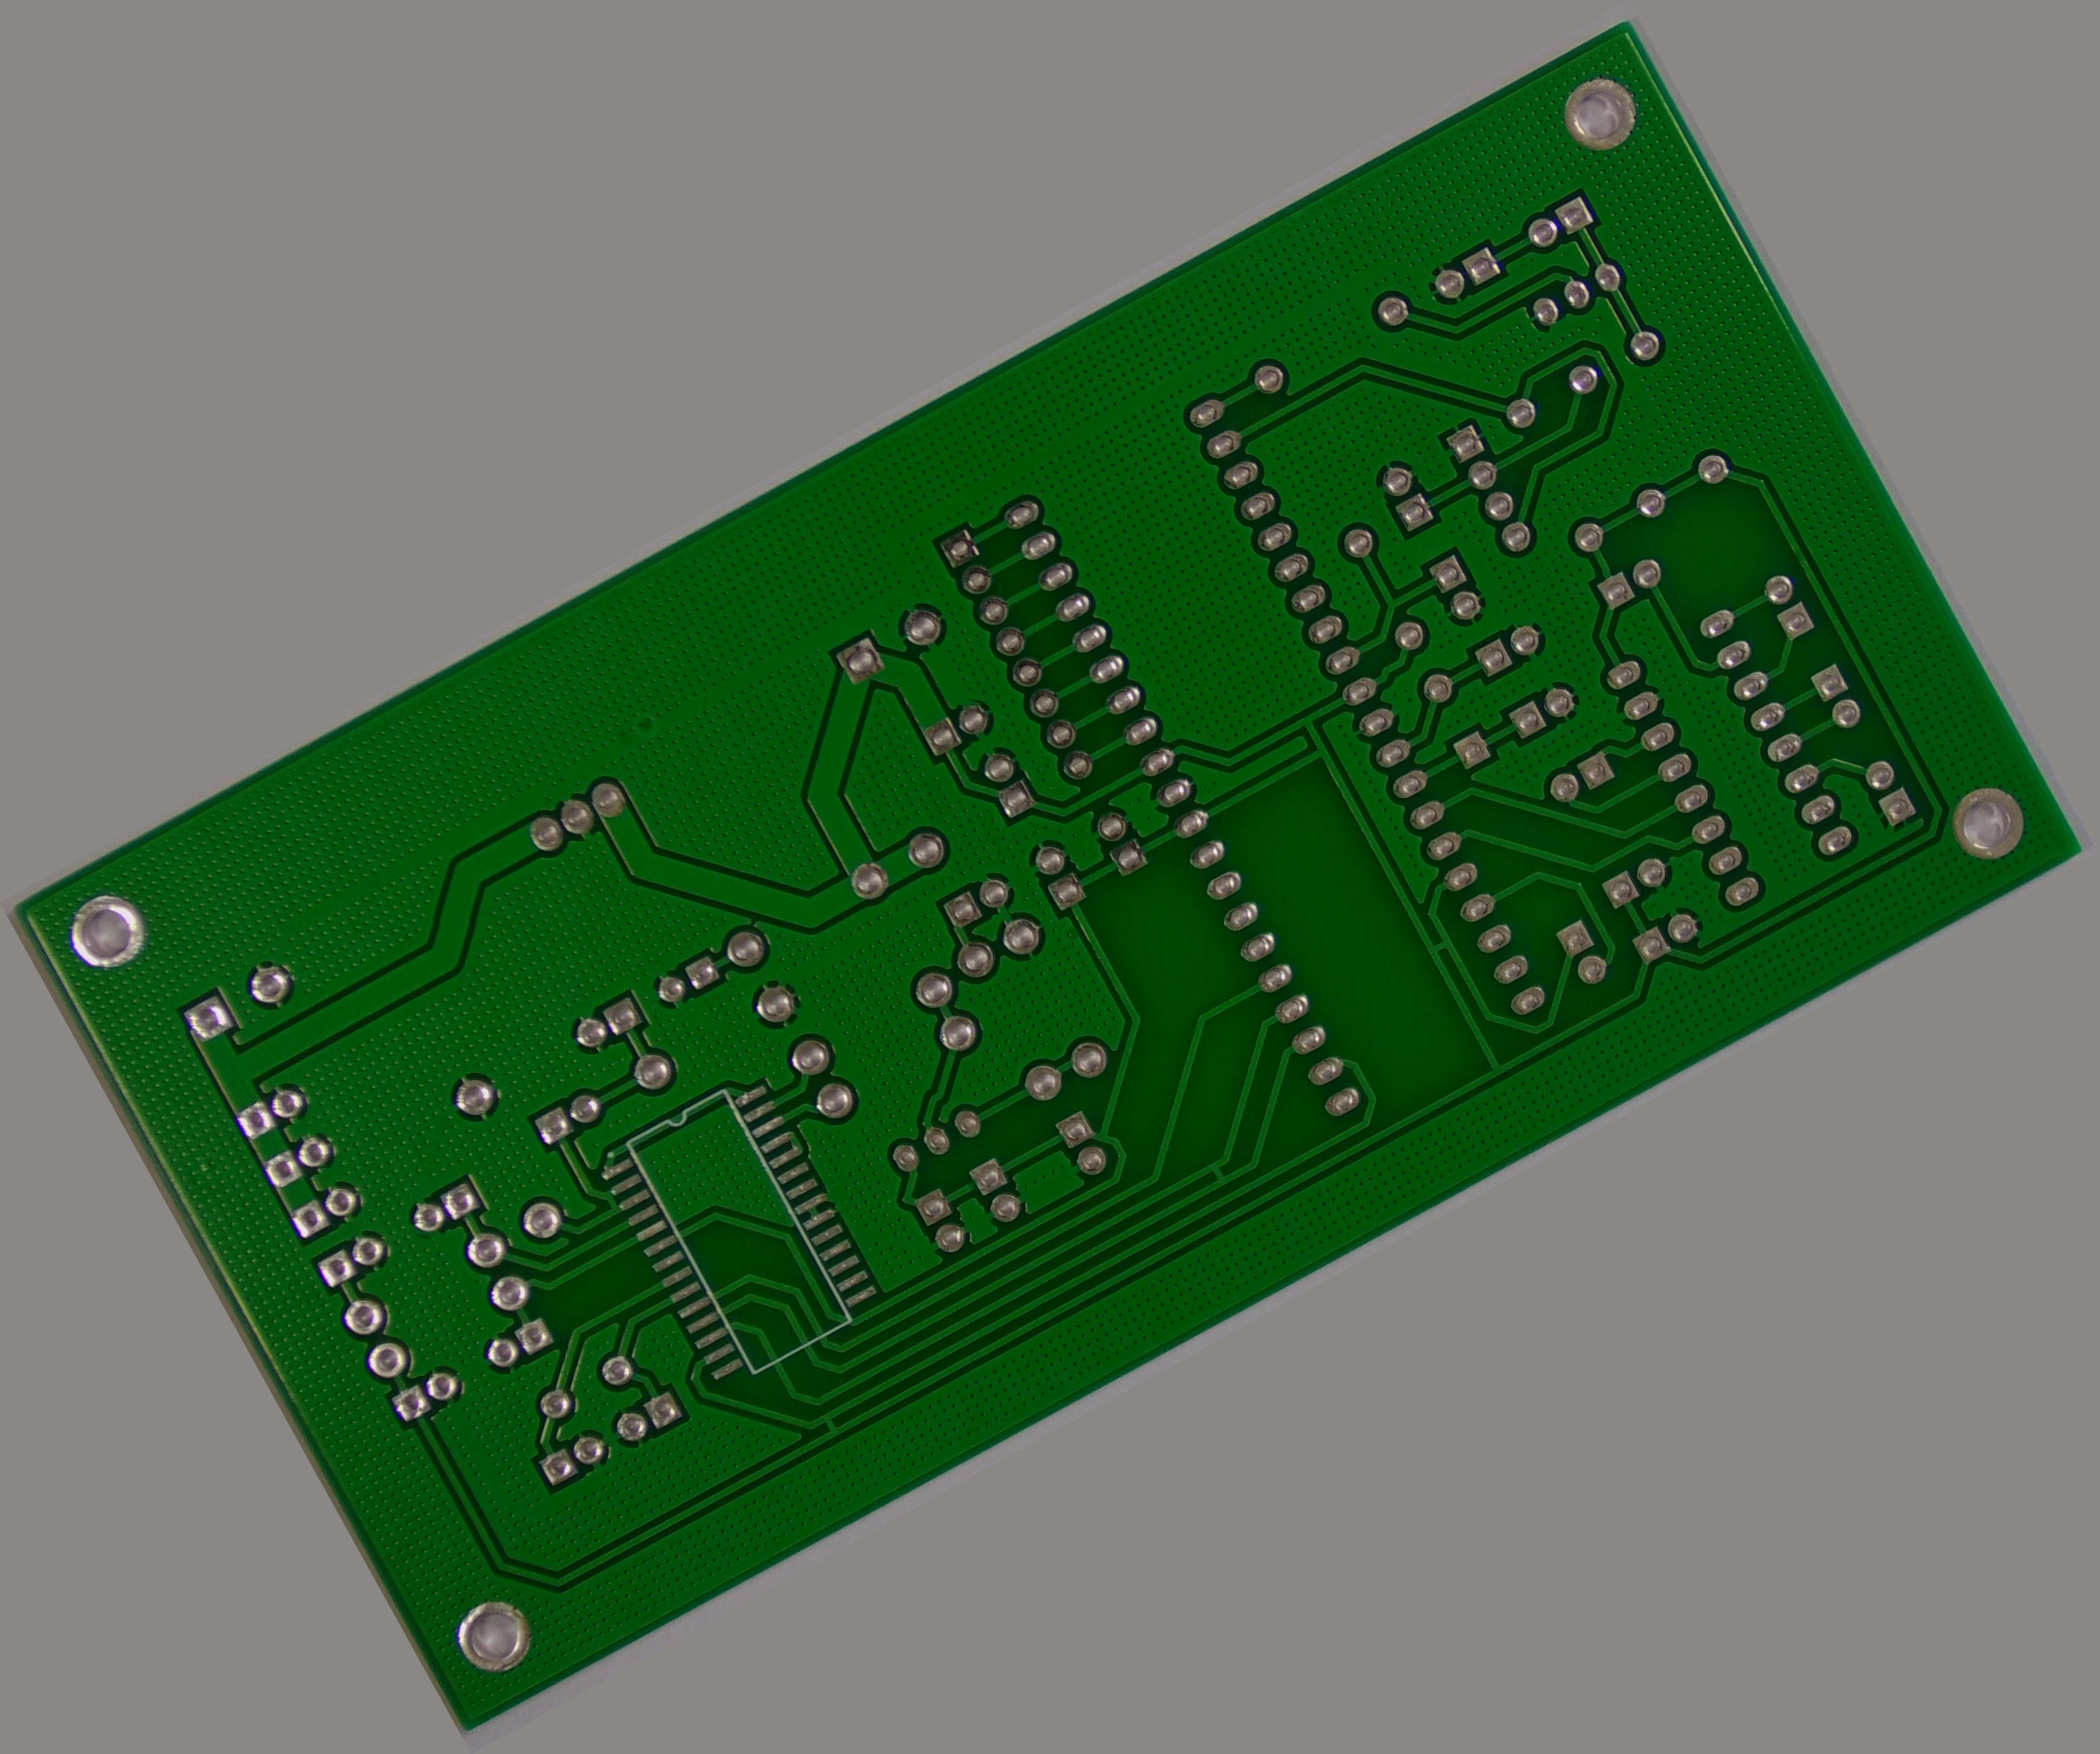short: (1409, 921, 1463, 973), (808, 1398, 856, 1449), (1195, 1151, 1240, 1198), (584, 1179, 630, 1224)
